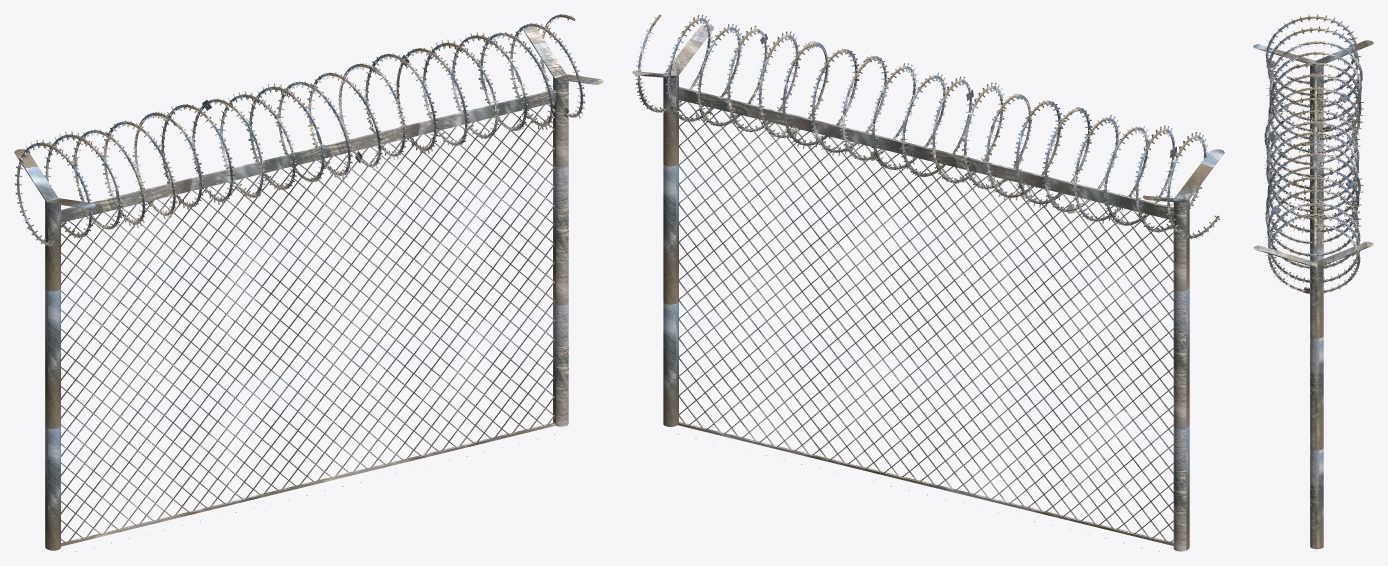
The model's file is fence.FBX.
The picture shows the model from 3 angles, left to right: view 1: azimuth 30°, elevation 25°; view 2: azimuth 150°, elevation 25°; view 3: azimuth 270°, elevation 25°; orthographic projection. The views are drawn at different scales.
Visible parts, largest first — view 1: Group002; view 2: Group002; view 3: Group002.
Boxes of the visible parts, bbox=[...] form: Group002: bbox=[14, 14, 603, 551]; Group002: bbox=[632, 14, 1224, 551]; Group002: bbox=[1253, 14, 1373, 551].
Size of the model in its own units: 41.55 by 30.45 by 9.82.
Materials: 1 (1 with a texture image).
